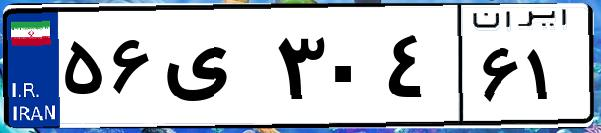0: (330, 28, 385, 110)
1: (525, 38, 570, 115)
3: (270, 28, 330, 110)
4: (385, 28, 445, 110)
5: (57, 26, 110, 100)
6: (475, 38, 525, 113), (110, 28, 158, 98)
ی: (158, 20, 270, 120)
